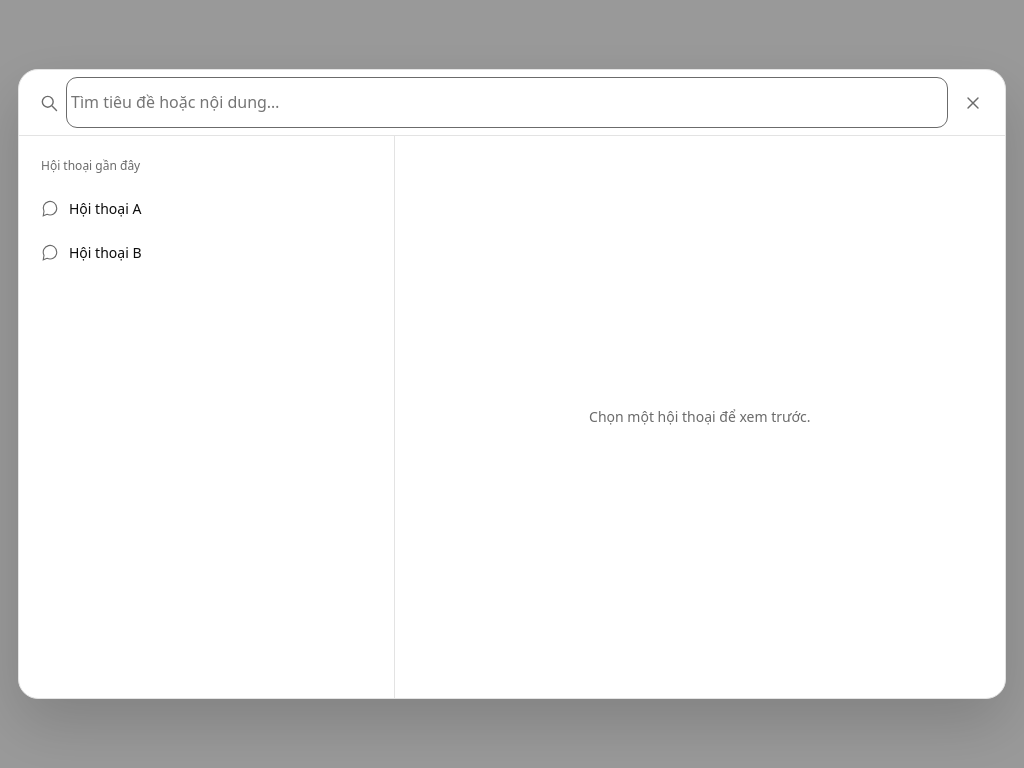
Test: lỗi preview có thể thử lại mà không điều hướng chat
The width and height of the screenshot is (1024, 768).
Press ArrowDown in the search field named "Tìm trong lịch sử chat", box top-left (71, 82), bottom-right (943, 123)
Wait 140 ms
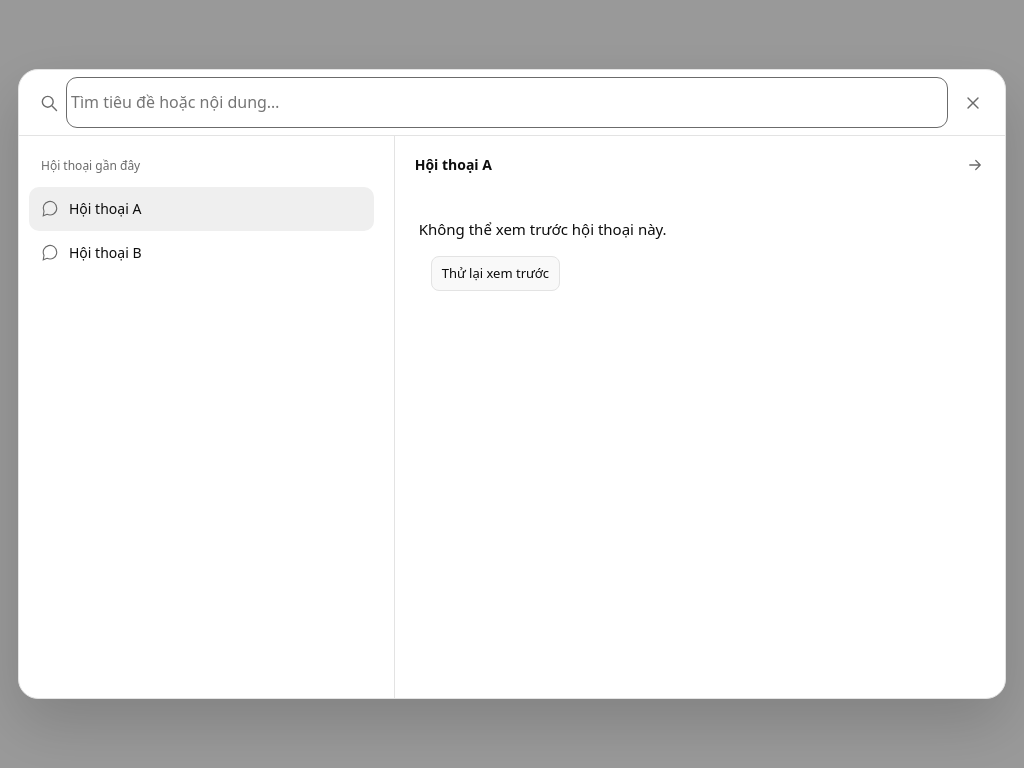
Expected: the message shows "Không thể xem trước", top-left (419, 219), bottom-right (667, 239)
Click the button "Thử lại xem trước". click: (495, 274)
box: top-left (431, 256), bottom-right (560, 291)
Wait 140 ms
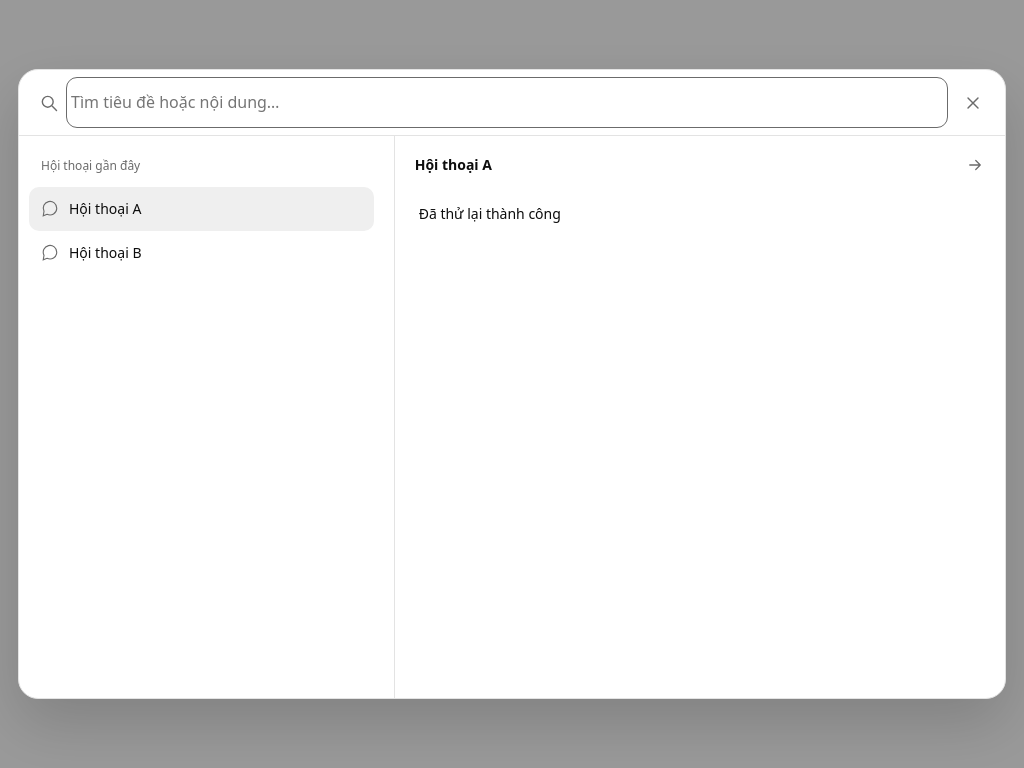
Expected: the text "Đã thử lại thành công" is shown, top-left (419, 204), bottom-right (561, 223)
